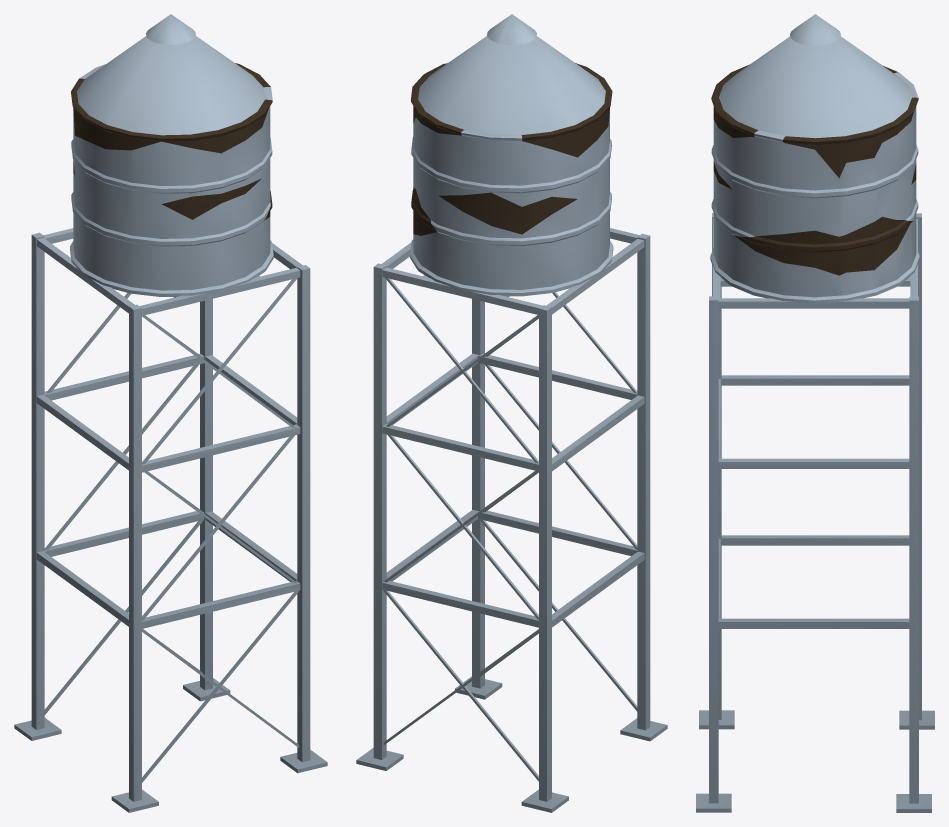
Rendered from WaterTower.glb.
3 views of the same model, side by side, from view 1: azimuth 30°, elevation 25°; view 2: azimuth 150°, elevation 25°; view 3: azimuth 270°, elevation 25° (orthographic). The views are drawn at different scales.
Parts seen in each view (by area): view 1: WaterTower; view 2: WaterTower; view 3: WaterTower.
Part boxes in pixels (x1,y1,x2,y2): WaterTower: (14, 14, 327, 812); WaterTower: (356, 14, 667, 812); WaterTower: (696, 14, 934, 812).
Bounding box in the file's own units: 2.65 × 9.38 × 2.71.
